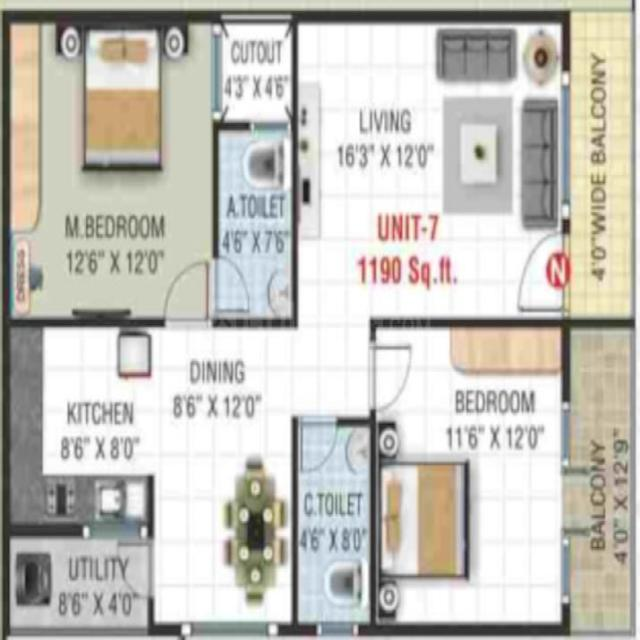Balcony-Sitout: (565, 322, 634, 630)
Bedroom: (371, 321, 569, 633)
Bedroom with Toilet: (3, 11, 296, 327)
Dining: (220, 454, 292, 603)
Enterance-Foyer: (514, 225, 575, 321)
Kitchen: (3, 324, 153, 534)
Living: (294, 13, 568, 323)
Toilet: (294, 420, 374, 630), (214, 124, 295, 324)
Utility: (5, 533, 153, 635)
